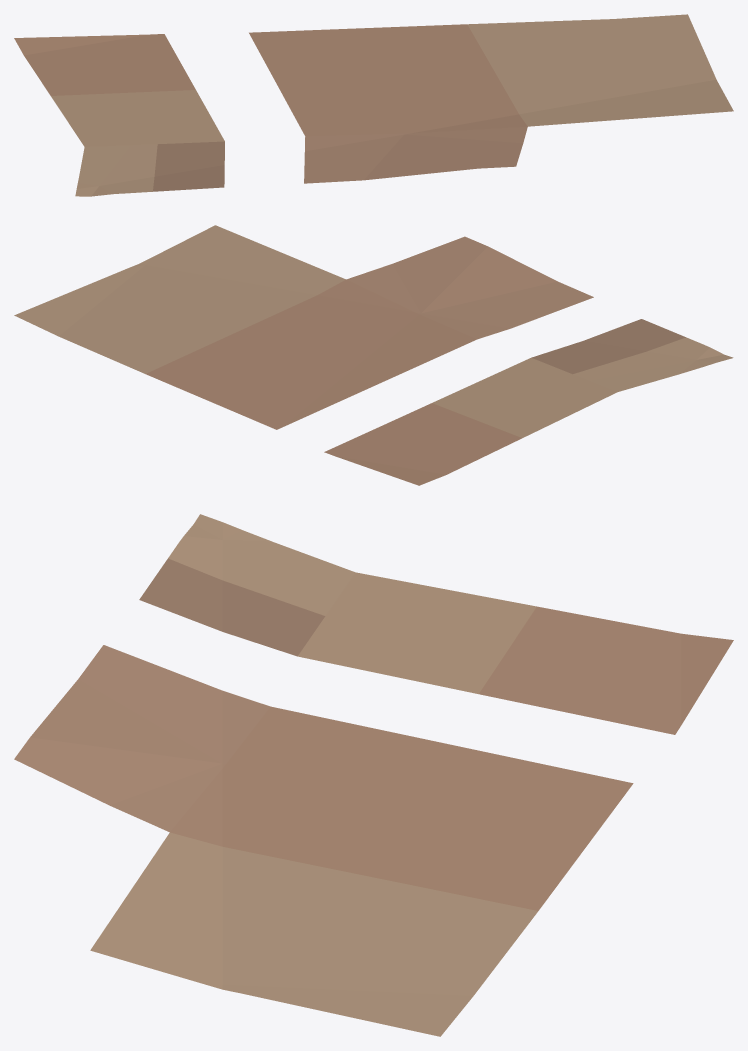
File: farm_0_0_soil.glb
3 renders of one model, top to bottom at view 1: azimuth 30°, elevation 25°; view 2: azimuth 150°, elevation 25°; view 3: azimuth 270°, elevation 25°, orthographic. The views are drawn at different scales.
Parts seen in each view (by area): view 1: geometry_0; view 2: geometry_0; view 3: geometry_0.
Boxes of the visible parts, box(x1,y1,x2,y2) form: geometry_0: box(14, 14, 733, 196); geometry_0: box(14, 225, 733, 485); geometry_0: box(14, 514, 733, 1036).
Bounding box in the file's own units: 185 × 14.4 × 126.
